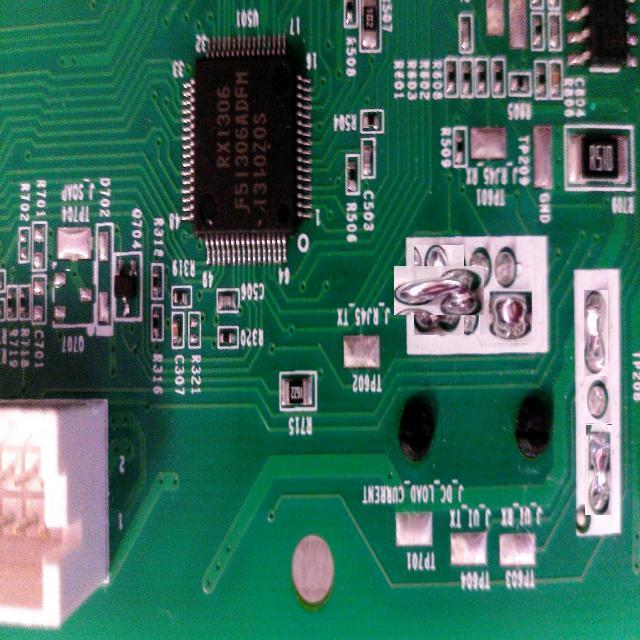Short_circuit: (404, 255, 474, 325), (480, 290, 533, 343), (585, 424, 612, 516), (584, 290, 608, 376)
